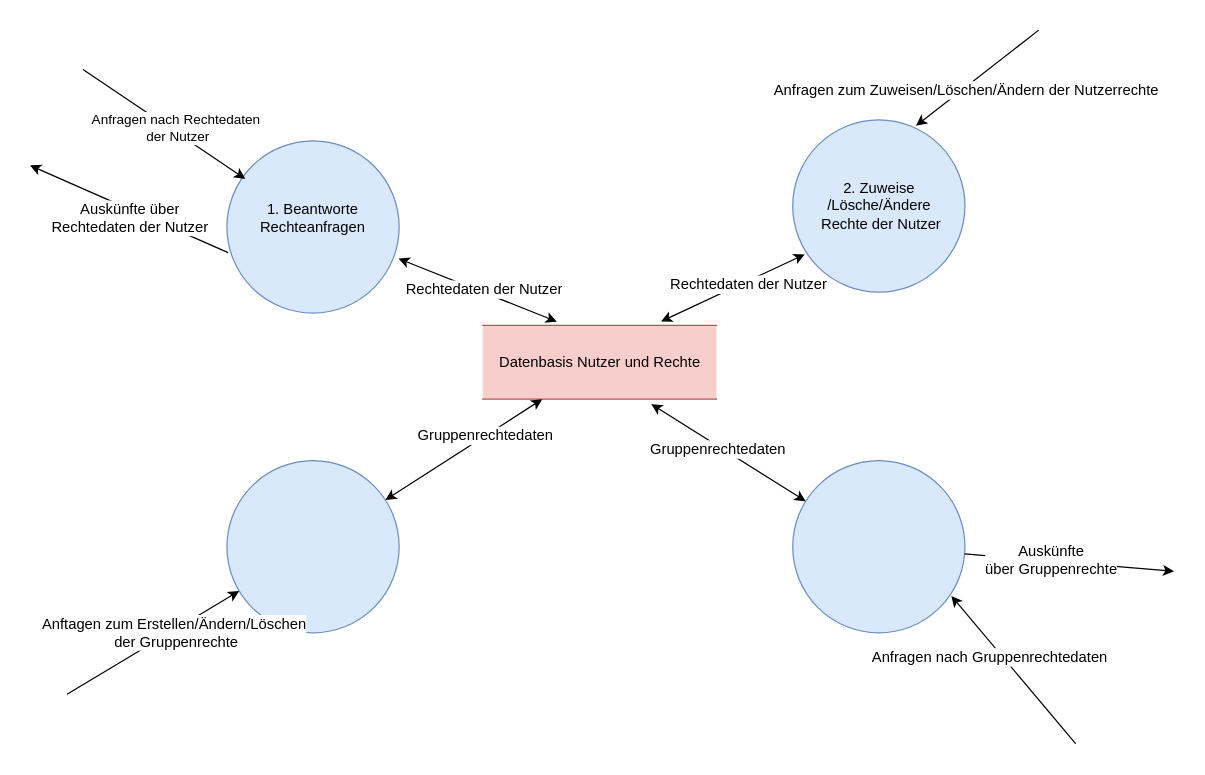
Image size: 1205x775. Some labels were removed from this diagram. The shapes that lost their labels are listed below. From the top down, each one's centre as x and y in pixels, then its label:
At point (312, 546): "3. Erstelle/Lösche /Ändere Gruppenrechte".
At point (878, 546): "4. Beantworte Anfragen zur Daten der Gruppenrechte".
